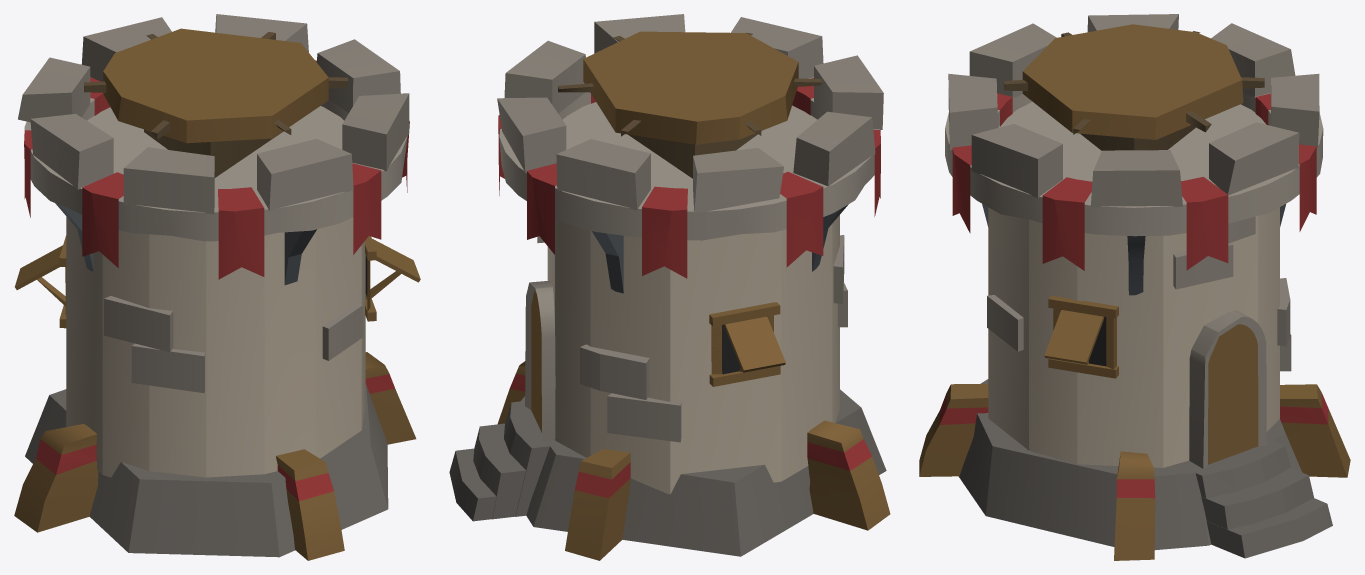
File: Tower_minimal_level.fbx
The picture shows the model from 3 angles, left to right: view 1: azimuth 30°, elevation 25°; view 2: azimuth 150°, elevation 25°; view 3: azimuth 270°, elevation 25°; orthographic projection.
Visible parts, largest first — view 1: Tower; view 2: Tower; view 3: Tower.
Boxes of the visible parts, left/top/right/bottom form: Tower: left=14, top=14, right=420, bottom=560; Tower: left=449, top=14, right=890, bottom=560; Tower: left=919, top=14, right=1350, bottom=560.
Bounding box in the file's own units: 291 × 296 × 290.
